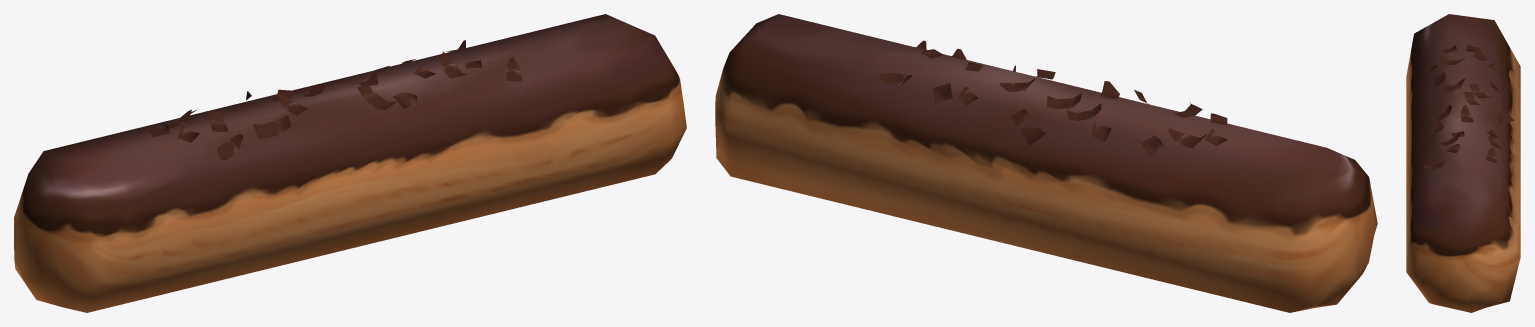
Rendered from eclairwtop.fbx.
The picture shows the model from 3 angles, left to right: view 1: azimuth 30°, elevation 25°; view 2: azimuth 150°, elevation 25°; view 3: azimuth 270°, elevation 25°; orthographic projection. The views are drawn at different scales.
Parts seen in each view (by area): view 1: eclairwtop; view 2: eclairwtop; view 3: eclairwtop.
Part boxes in pixels (<box>): eclairwtop: <box>14,14,686,312</box>; eclairwtop: <box>715,14,1377,312</box>; eclairwtop: <box>1406,14,1520,312</box>.
Size of the model in its own units: 37.83 by 9.2 by 8.27.
